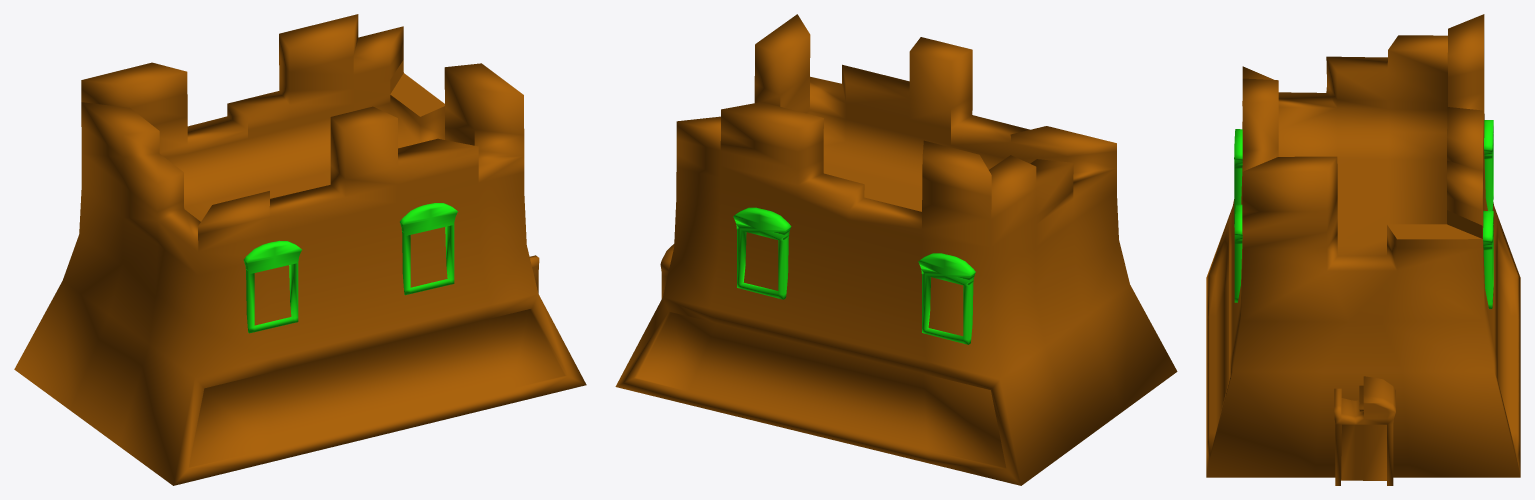
File: Bat2.fbx
The picture shows the model from 3 angles, left to right: view 1: azimuth 30°, elevation 25°; view 2: azimuth 150°, elevation 25°; view 3: azimuth 270°, elevation 25°; orthographic projection.
Parts seen in each view (by area): view 1: Maison001, Fenêtre001; view 2: Maison001, Fenêtre001; view 3: Maison001, Porte001, Fenêtre001.
Part boxes in pixels (left/top/right/bottom): Maison001: left=14, top=14, right=586, bottom=485; Fenêtre001: left=243, top=203, right=457, bottom=333; Maison001: left=615, top=14, right=1177, bottom=485; Fenêtre001: left=733, top=207, right=975, bottom=344; Maison001: left=1206, top=14, right=1520, bottom=477; Porte001: left=1334, top=376, right=1395, bottom=485; Fenêtre001: left=1234, top=120, right=1493, bottom=308.
Size of the model in its own units: 75.24 by 49.3 by 48.13.
